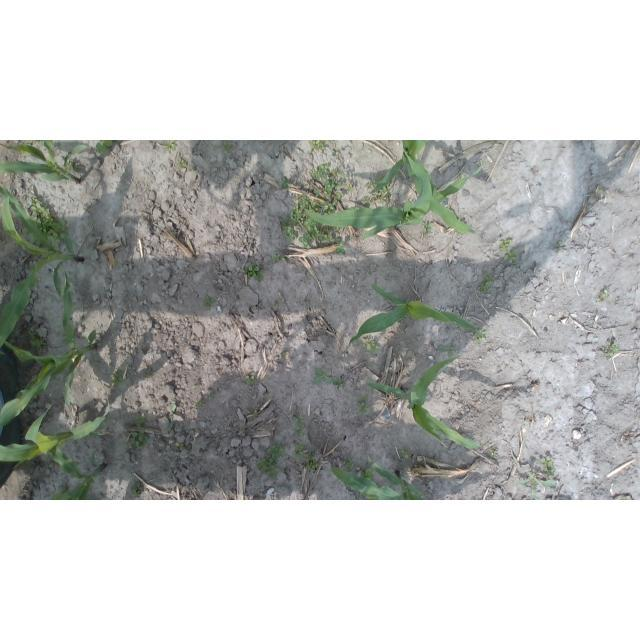Maize: (1, 259, 98, 429), (304, 162, 485, 242), (1, 181, 84, 349), (366, 357, 481, 452), (370, 140, 478, 236), (345, 282, 483, 355), (0, 398, 112, 462), (331, 456, 424, 500), (1, 140, 90, 185), (47, 445, 108, 500)
Weeds: (290, 192, 344, 249), (125, 413, 152, 454), (518, 473, 557, 500), (257, 442, 286, 478), (32, 219, 69, 245), (27, 196, 53, 220), (281, 219, 299, 243), (243, 263, 263, 284), (372, 182, 390, 204), (25, 329, 45, 348), (308, 163, 328, 182), (325, 177, 342, 197), (308, 140, 331, 154), (313, 368, 333, 384), (360, 339, 380, 355), (111, 367, 127, 387), (539, 456, 554, 476), (604, 339, 619, 359), (167, 404, 177, 433), (95, 141, 113, 156), (305, 453, 319, 471), (292, 441, 305, 460), (358, 394, 369, 415), (480, 274, 492, 292), (472, 329, 487, 343), (294, 416, 304, 437), (440, 345, 456, 358), (331, 168, 347, 181), (503, 249, 517, 263), (498, 239, 512, 252), (201, 296, 215, 309), (130, 483, 142, 498), (360, 468, 374, 480), (421, 221, 433, 234), (335, 241, 346, 255), (343, 459, 356, 470), (247, 405, 257, 419), (221, 141, 232, 153), (599, 288, 609, 301), (359, 196, 373, 205), (271, 254, 285, 263), (334, 379, 345, 390), (176, 157, 186, 168), (165, 141, 175, 152), (280, 176, 289, 188), (245, 375, 255, 385), (400, 449, 409, 460), (23, 228, 32, 239), (144, 368, 153, 378), (176, 442, 185, 451), (314, 188, 323, 197), (60, 482, 68, 492), (66, 160, 73, 171), (365, 182, 376, 189), (273, 300, 281, 309), (188, 164, 197, 172), (346, 183, 354, 192), (490, 450, 498, 457), (26, 140, 40, 144), (376, 175, 383, 183), (556, 241, 562, 249), (113, 260, 119, 268), (195, 399, 203, 405), (74, 163, 80, 169), (304, 181, 309, 188), (282, 352, 289, 356), (332, 150, 336, 157), (460, 170, 465, 175), (40, 142, 45, 147), (208, 392, 214, 396), (192, 384, 196, 388), (265, 392, 268, 396)
